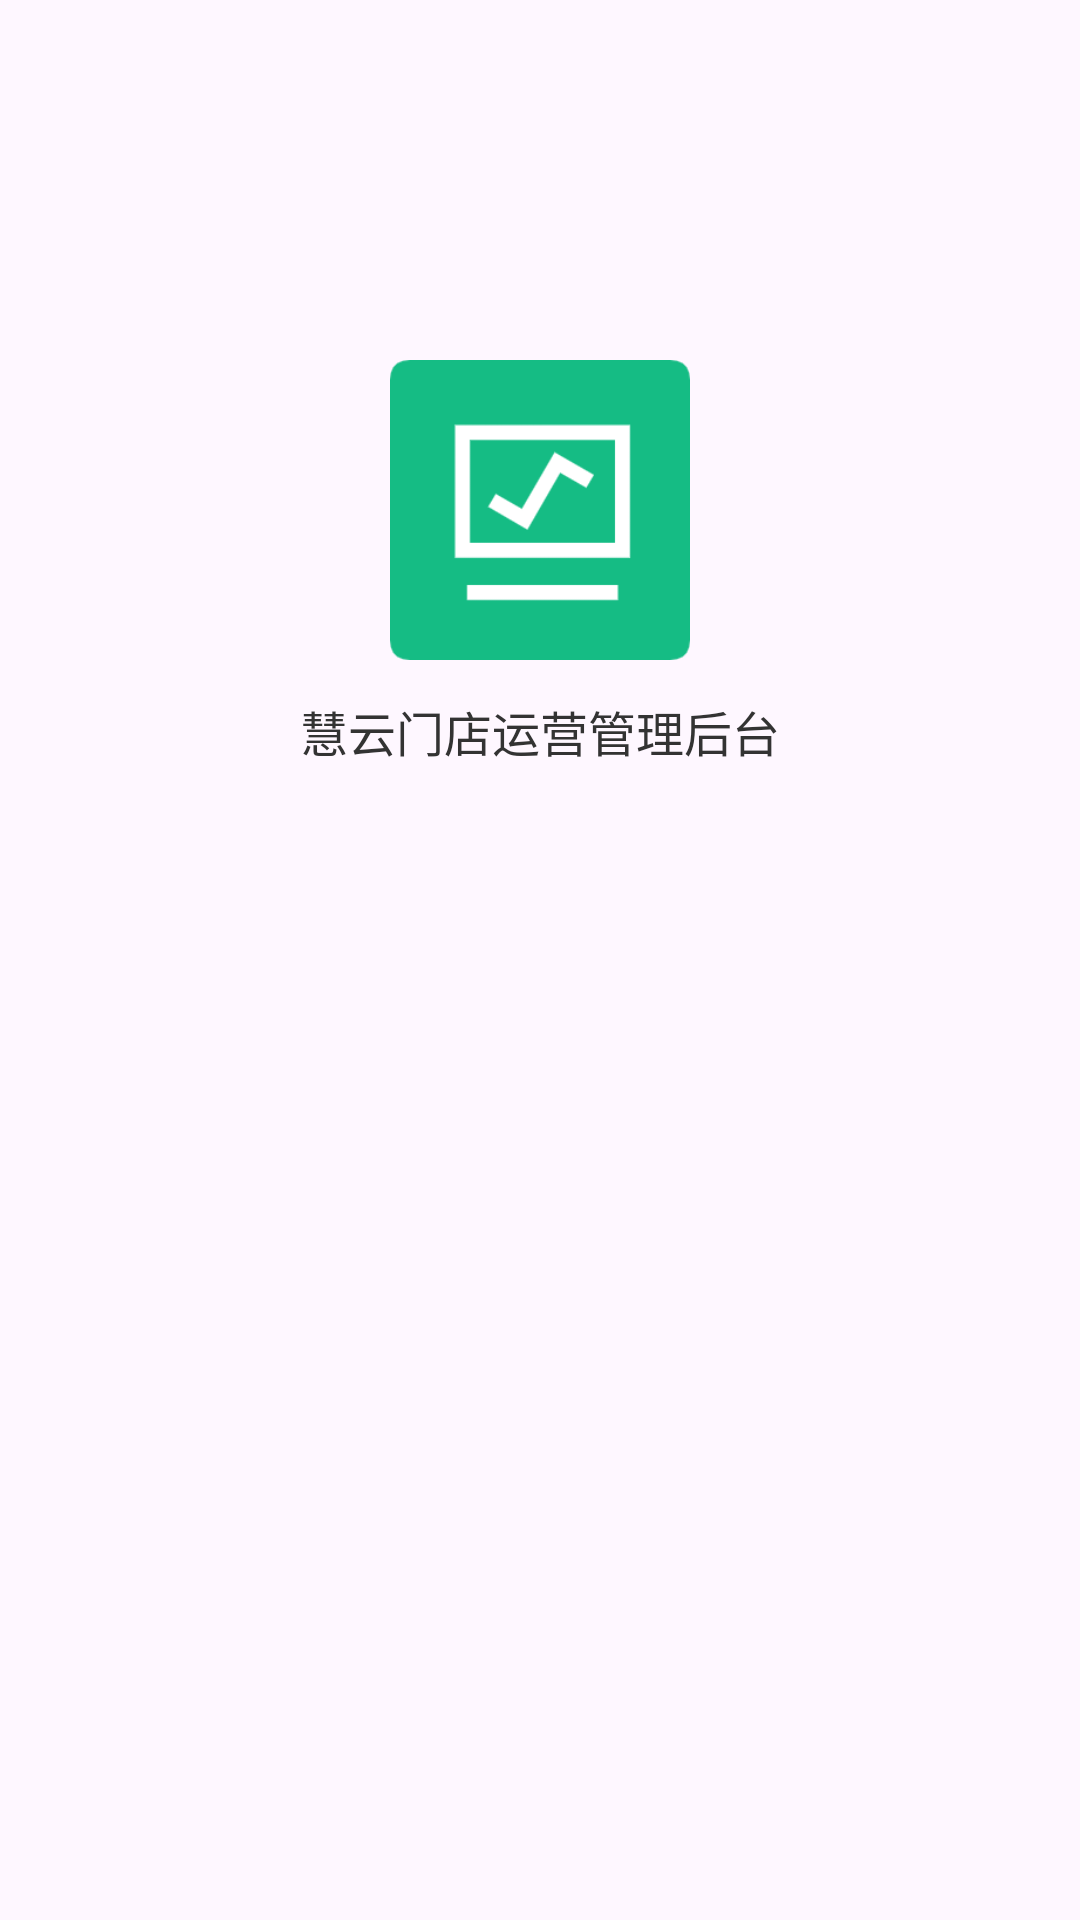

Point at icon controls on the screen. Image size 1080px×1920px, points as point (x, y).
app: point (540, 510)
